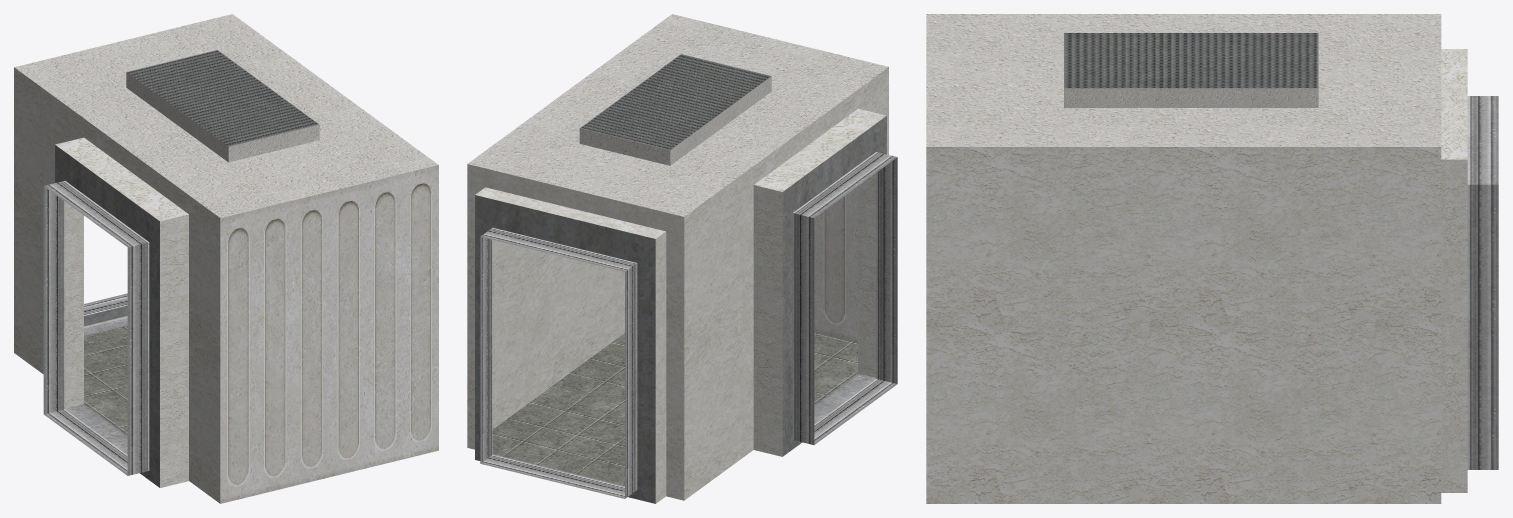
Rendered from ply_corl_house_lg_s02_fp1_r5_hallway2_mesh_r5.fbx.
The picture shows the model from 3 angles, left to right: view 1: azimuth 30°, elevation 25°; view 2: azimuth 150°, elevation 25°; view 3: azimuth 270°, elevation 25°; orthographic projection. The views are drawn at different scales.
Visible parts, largest first — view 1: mesh_node; view 2: mesh_node; view 3: mesh_node.
Boxes of the visible parts, box(x1,y1,x2,y2) form: mesh_node: box(14, 14, 438, 503); mesh_node: box(467, 14, 897, 503); mesh_node: box(926, 14, 1498, 503).
Size of the model in its own units: 3.7 by 3.96 by 5.45.
